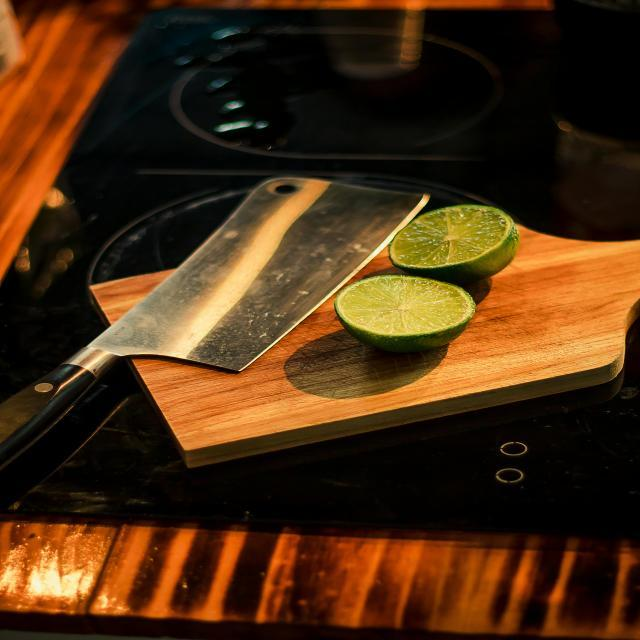knife: (0, 176, 430, 464)
